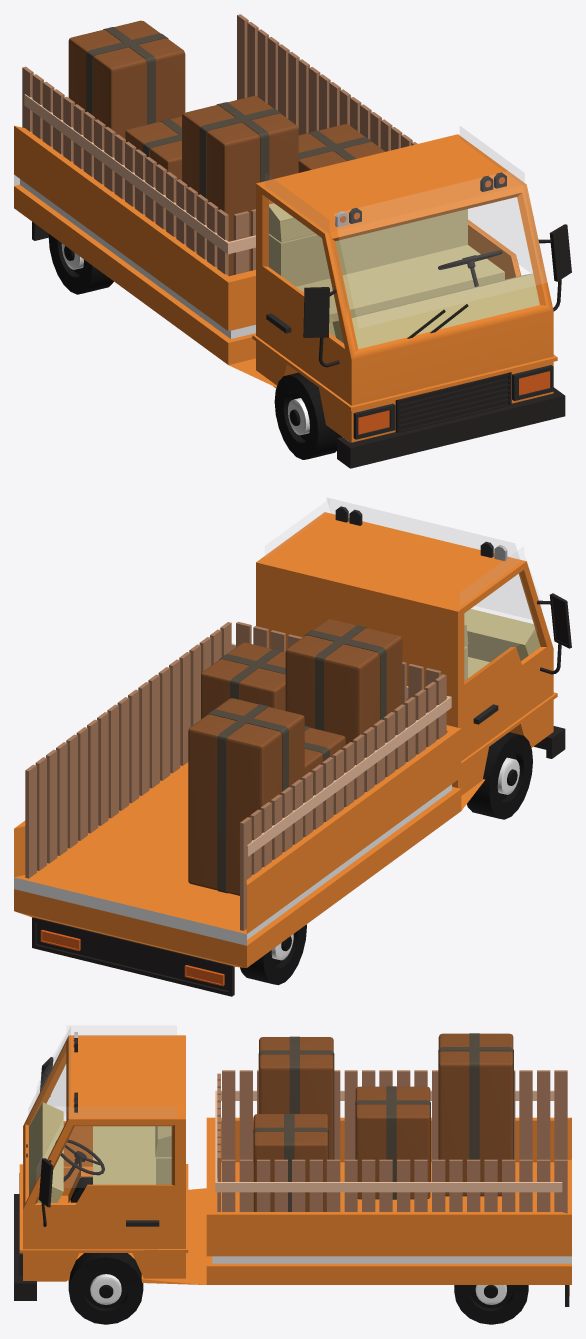
File: sizeS.gltf
3 views of the same model, one above another, from view 1: azimuth 30°, elevation 25°; view 2: azimuth 150°, elevation 25°; view 3: azimuth 270°, elevation 25° (orthographic). The views are drawn at different scales.
Parts seen in each view (by area): view 1: pCube419; view 2: pCube419; view 3: pCube419.
Part boxes in pixels (x1=…): pCube419: x1=14, y1=14, x2=571, y2=468; pCube419: x1=14, y1=498, x2=571, y2=996; pCube419: x1=14, y1=1026, x2=571, y2=1324.
Size of the model in its own units: 2.54 by 2.3 by 5.36.
